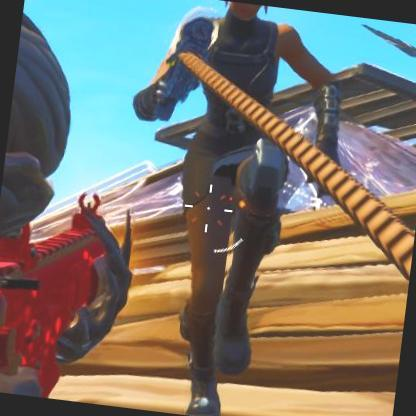person: (152, 6, 312, 382)
